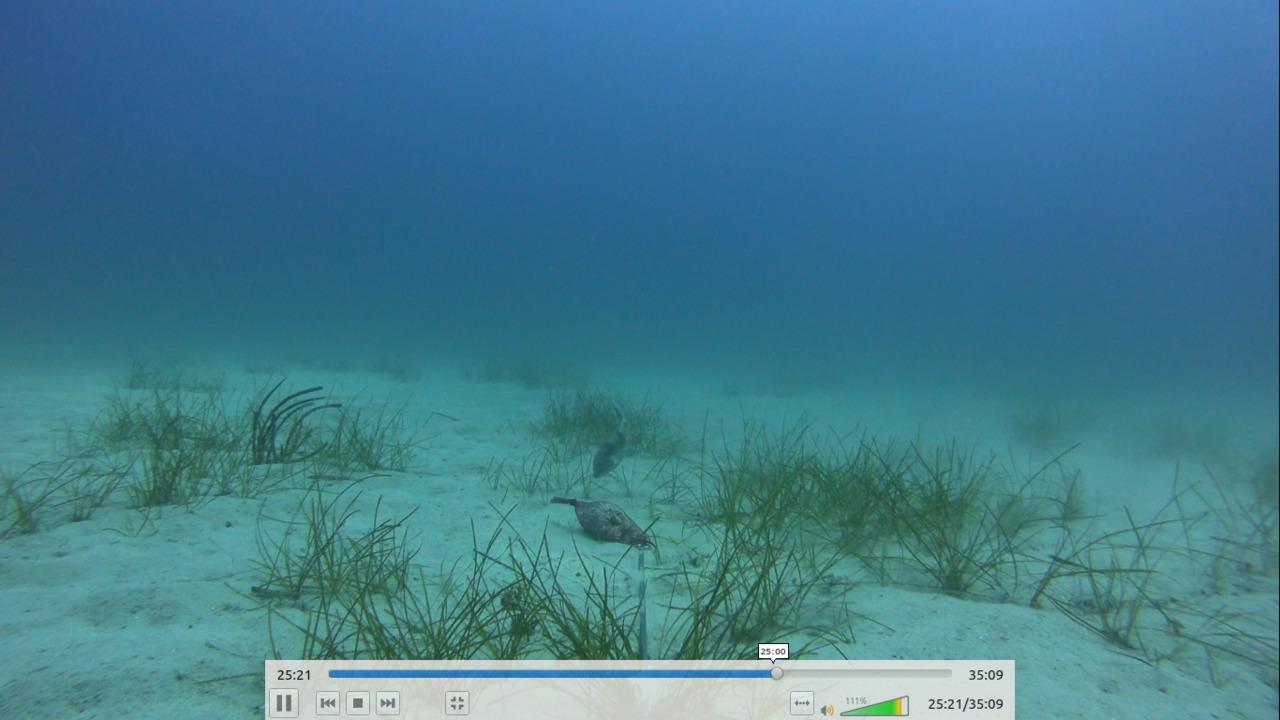raor: (577, 397, 632, 477)
